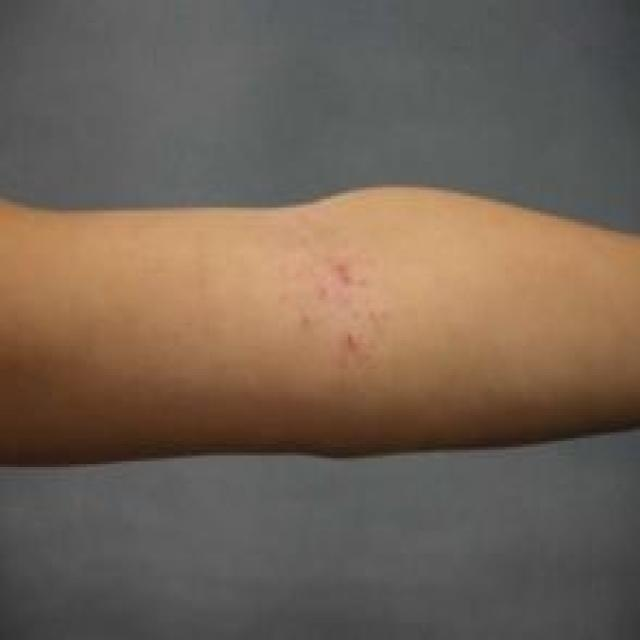Eczema: (293, 249, 388, 386)
